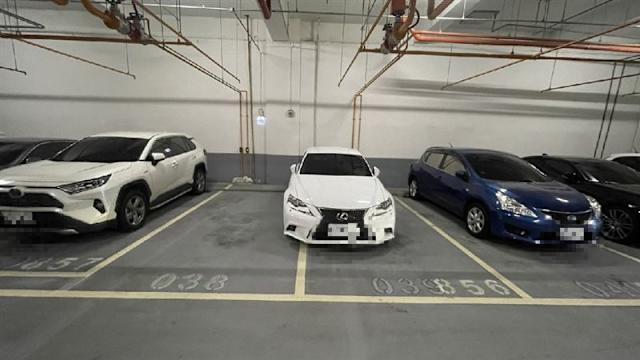car: (1, 121, 209, 236), (409, 145, 603, 251), (281, 144, 397, 253), (600, 152, 640, 244), (1, 127, 73, 168)
